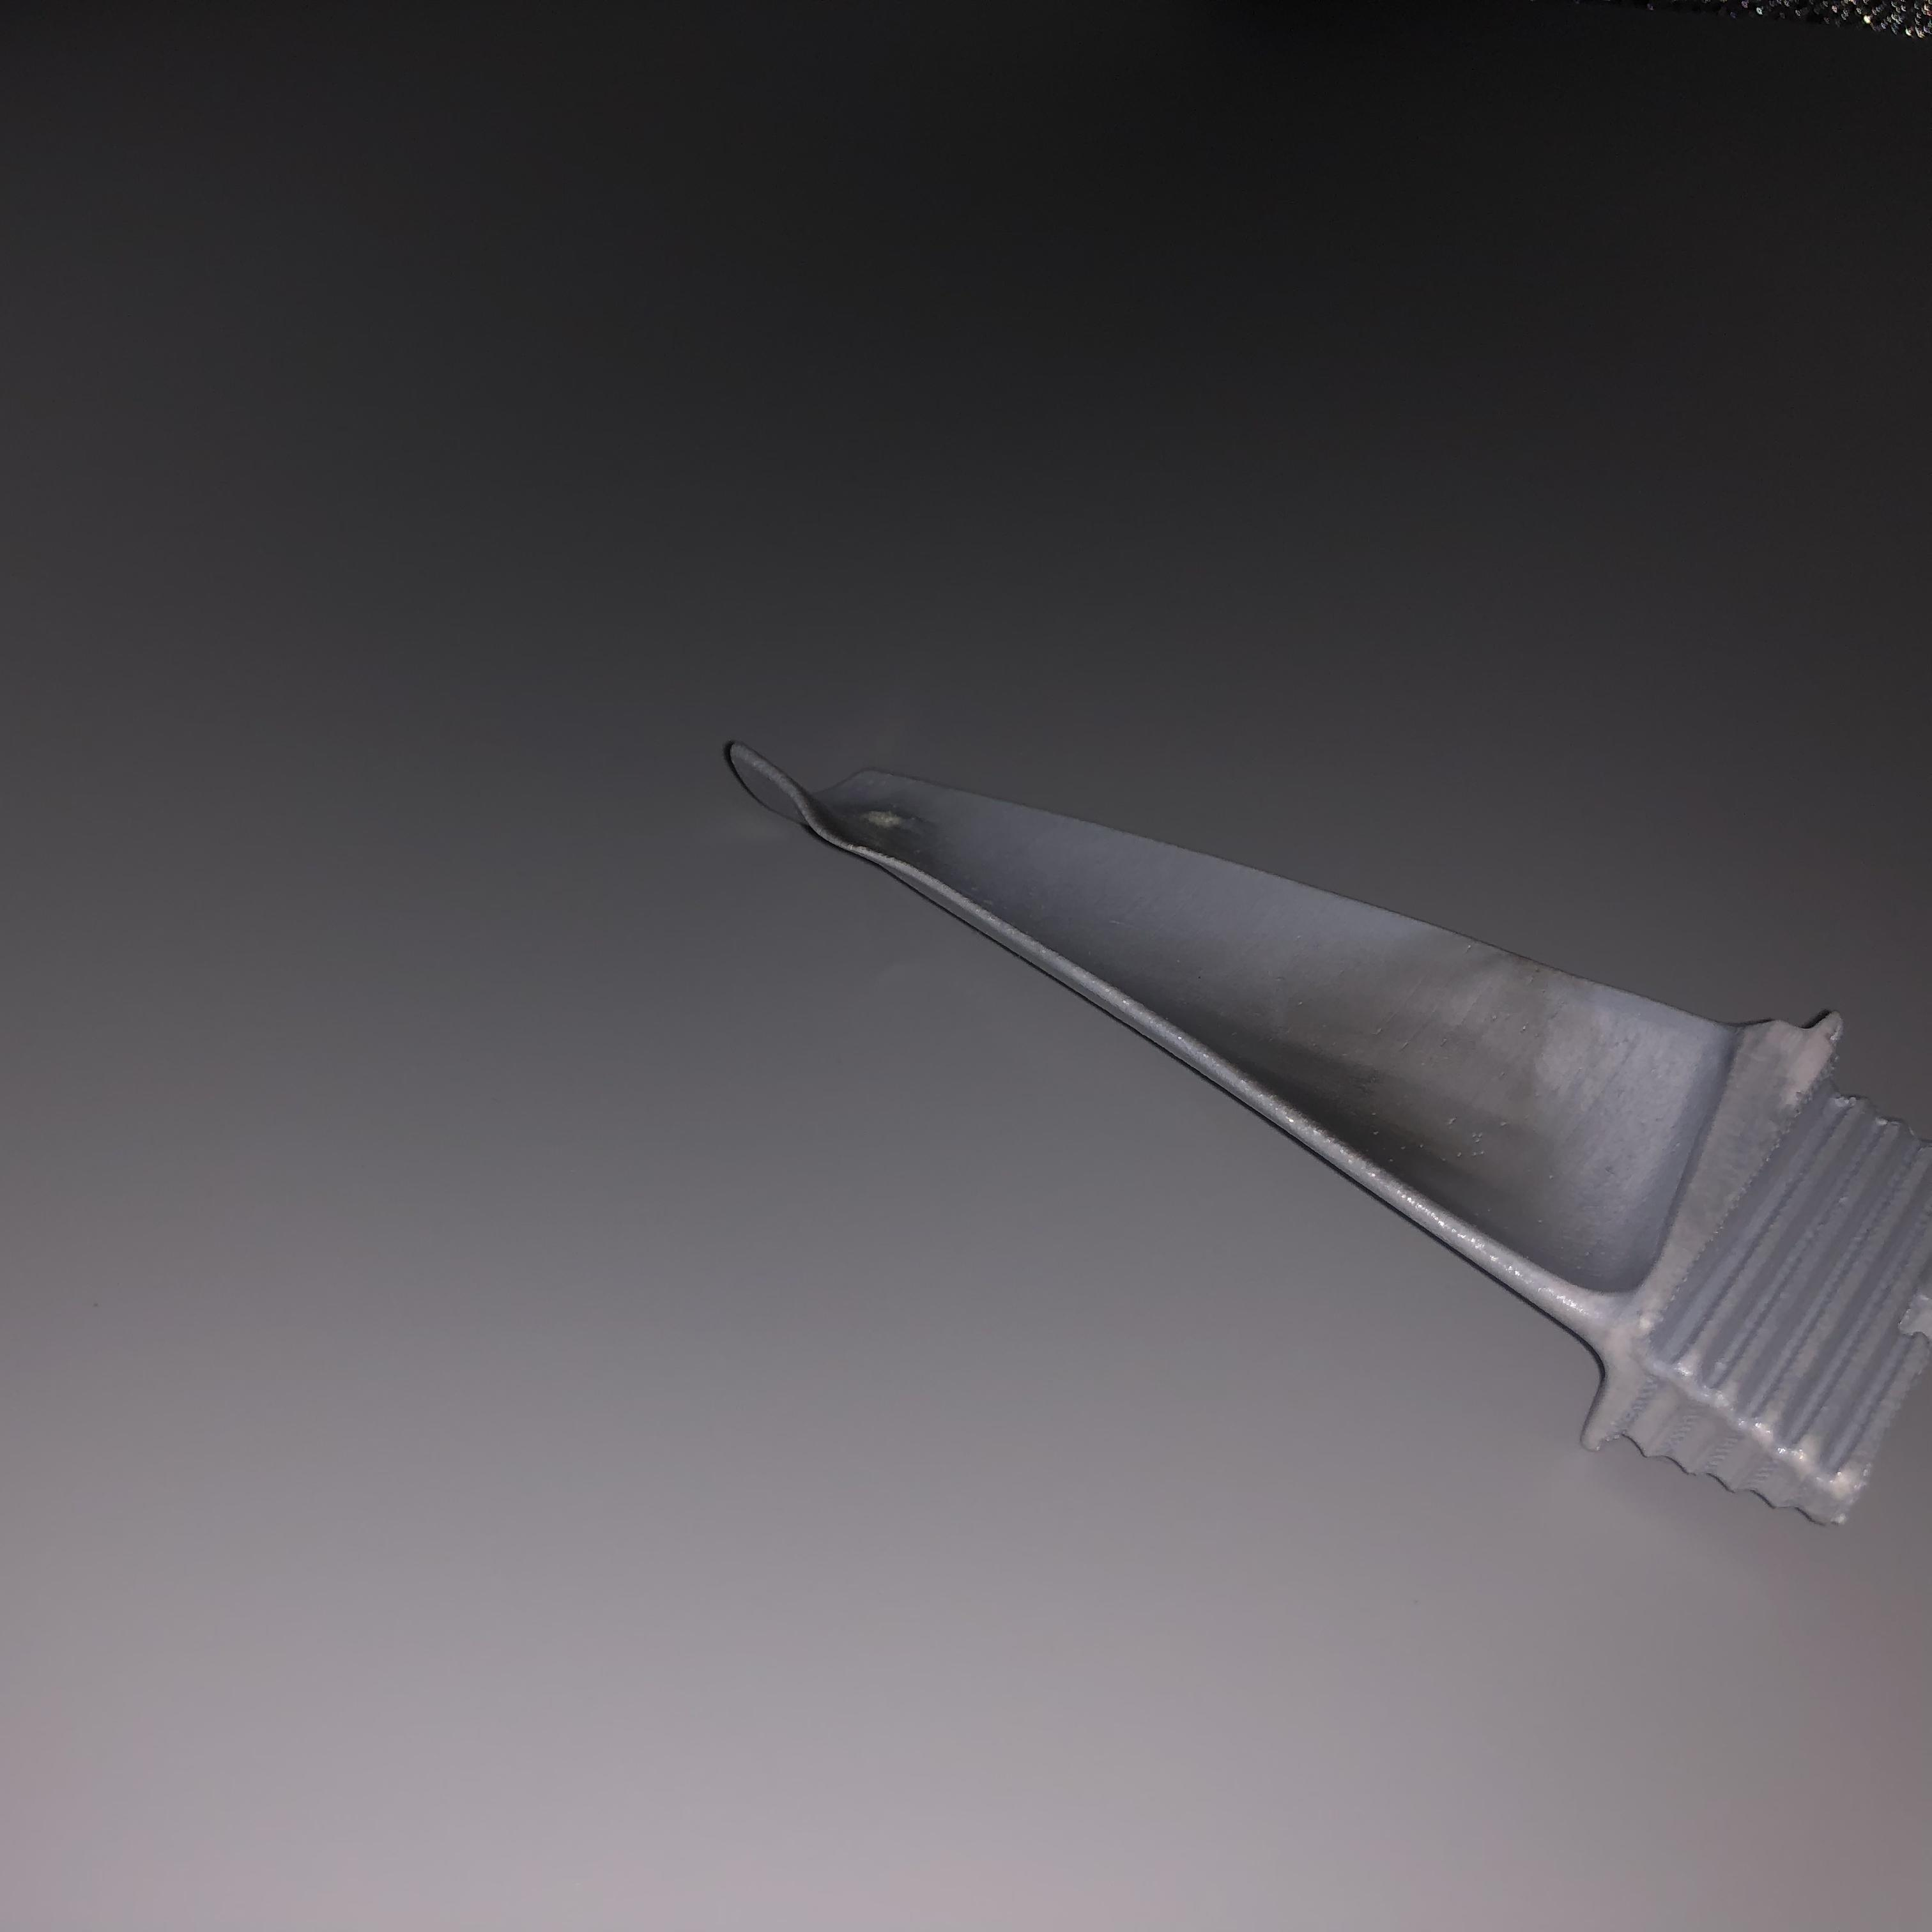ablation: (1274, 943, 1566, 1203), (798, 782, 961, 876)
